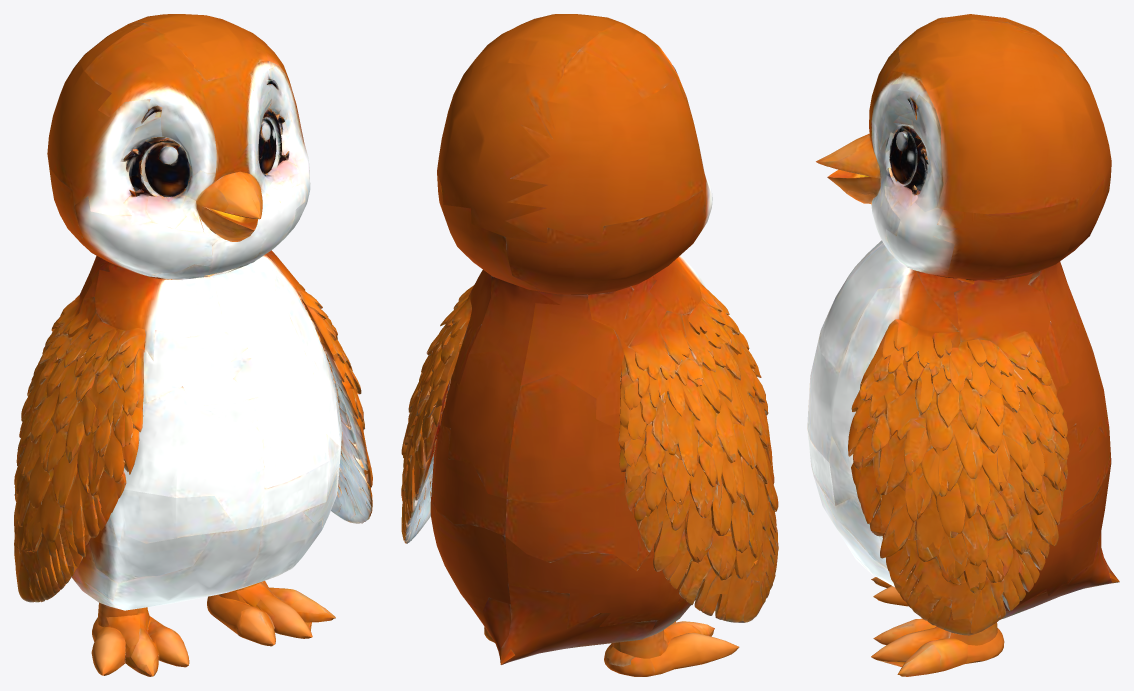
The model's file is penguin.glb.
3 renders of one model, left to right at view 1: azimuth 30°, elevation 25°; view 2: azimuth 150°, elevation 25°; view 3: azimuth 270°, elevation 25°, orthographic. The views are drawn at different scales.
Size of the model in its own units: 1.1 by 1.9 by 0.9065.
Materials: 1 (1 with a texture image).
